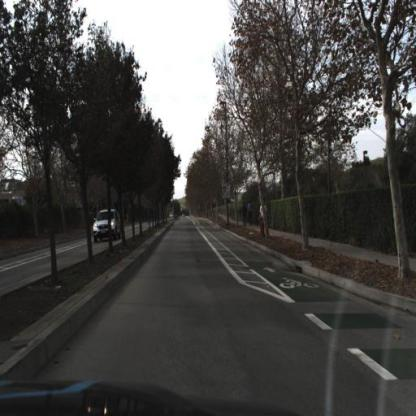car: (92, 205, 124, 246)
pedestrian: (259, 203, 267, 237)
